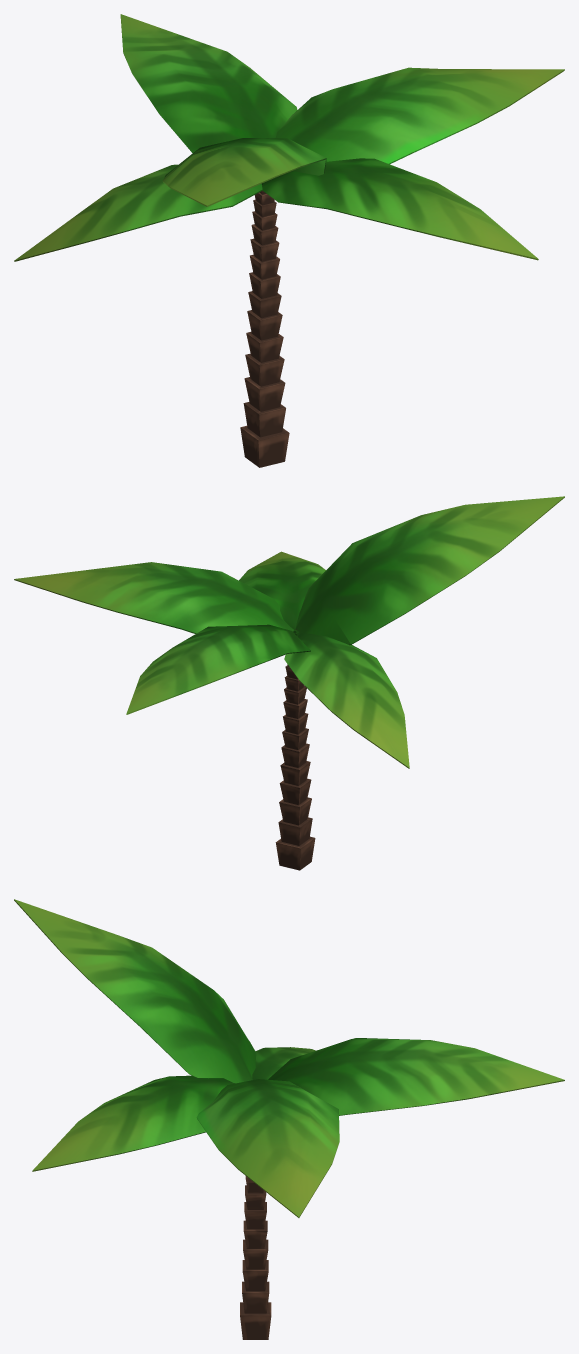
The model's file is Palmier.fbx.
The picture shows the model from 3 angles, top to bottom: view 1: azimuth 30°, elevation 25°; view 2: azimuth 150°, elevation 25°; view 3: azimuth 270°, elevation 25°; orthographic projection. The views are drawn at different scales.
Visible parts, largest first — view 1: Plane; view 2: Plane; view 3: Plane.
Part boxes in pixels (left/top/right/bottom): Plane: left=14, top=14, right=564, bottom=467; Plane: left=14, top=496, right=564, bottom=870; Plane: left=14, top=899, right=564, bottom=1339.
Bounding box in the file's own units: 383 × 283 × 402.
